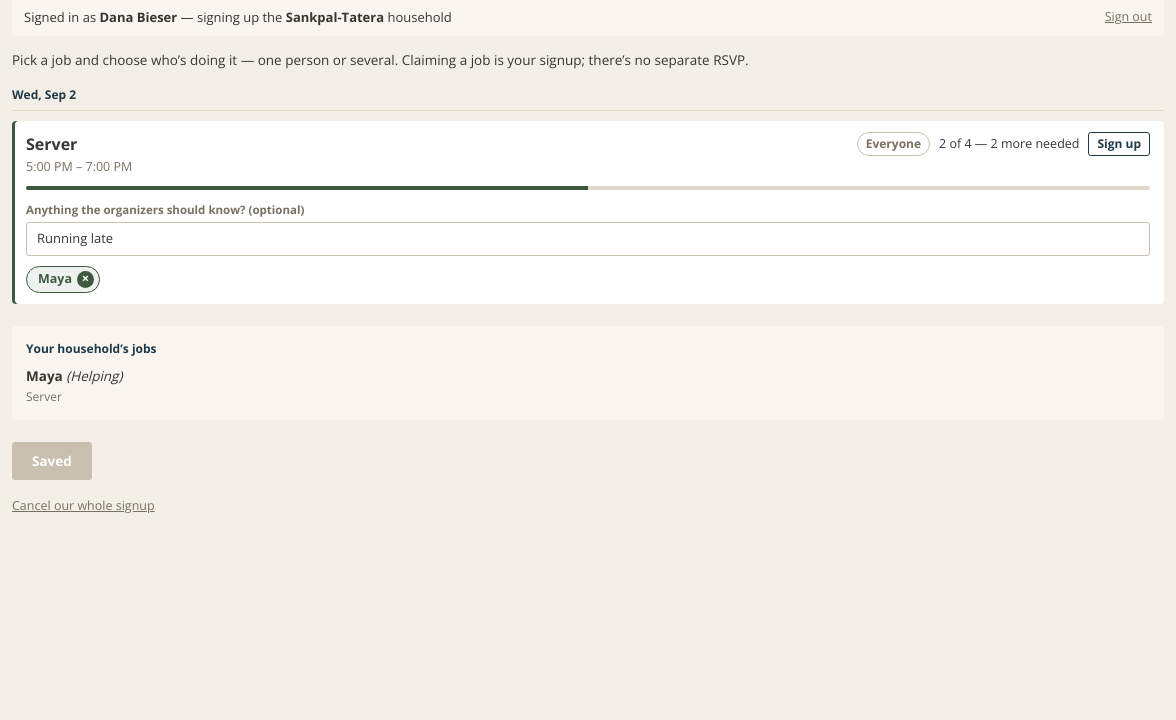
Test case: slot-first form — saving edits › ChangingTheJobNote_MakesTheDraftDirty
Check: the button "Saved" is disabled, box [12,442,92,480]
Type " — ten minutes" into the field showing "Running late" at (588, 239), box [26,222,1150,256]
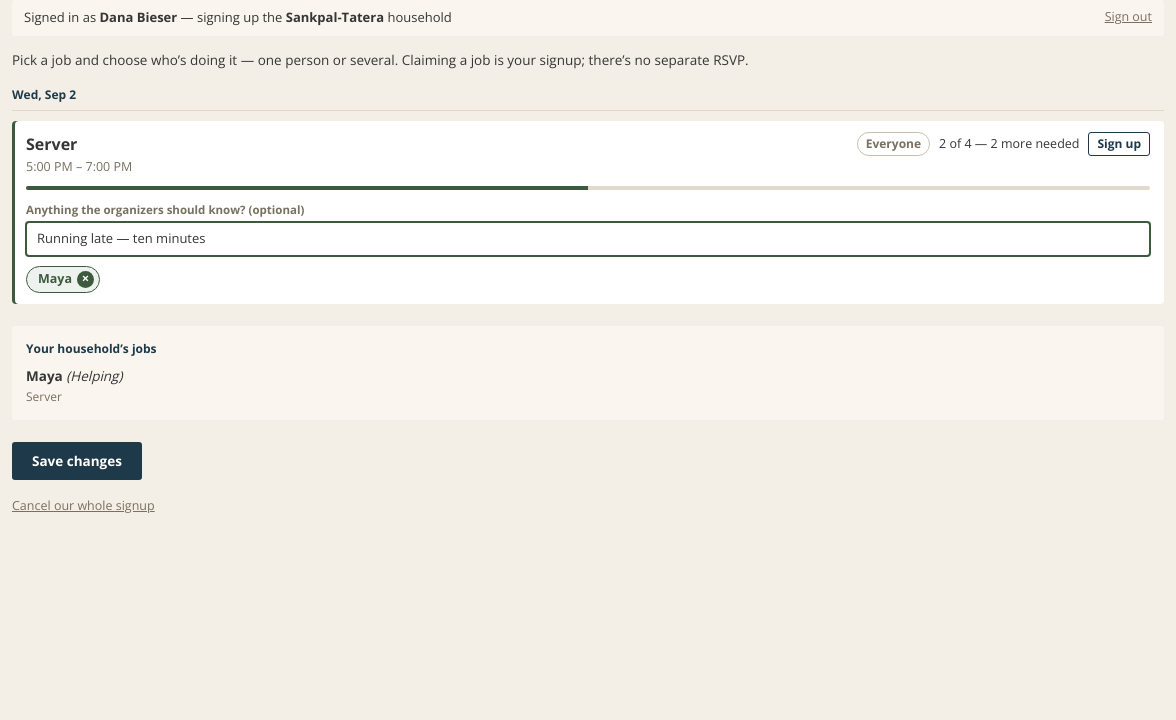
Check: the button "Save changes" is enabled, box [12,442,142,480]
